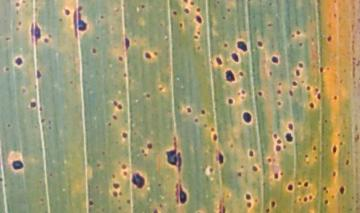tarspot: (167, 138, 182, 172), (74, 6, 86, 37), (174, 183, 187, 205), (131, 171, 146, 188), (31, 24, 41, 44), (224, 68, 236, 82), (215, 150, 224, 165), (242, 112, 252, 124), (237, 41, 248, 51), (218, 201, 227, 213), (12, 161, 23, 170), (284, 132, 293, 143), (231, 53, 239, 62), (15, 58, 23, 66), (271, 55, 279, 63), (196, 16, 203, 25), (124, 37, 129, 49), (339, 185, 345, 195), (29, 102, 37, 109), (287, 122, 294, 130), (244, 193, 252, 200), (87, 199, 95, 206), (252, 196, 260, 203), (35, 70, 41, 79), (354, 134, 360, 143), (354, 59, 360, 68), (332, 144, 337, 154), (146, 143, 153, 150), (248, 149, 255, 156), (329, 192, 336, 199), (145, 52, 151, 60), (216, 57, 222, 65), (309, 101, 315, 109), (287, 183, 293, 191), (270, 199, 275, 208), (257, 40, 263, 47), (275, 145, 282, 151), (297, 41, 304, 47), (332, 94, 338, 101), (273, 172, 279, 179), (112, 190, 118, 197), (289, 32, 296, 38), (295, 68, 300, 76), (113, 183, 121, 188), (184, 8, 190, 14), (172, 10, 178, 16), (213, 133, 217, 142), (257, 91, 263, 97), (272, 133, 278, 139), (291, 80, 297, 86), (298, 62, 304, 68), (65, 8, 70, 15), (117, 103, 122, 110), (221, 14, 226, 21), (288, 89, 293, 96), (327, 35, 332, 42), (252, 165, 257, 172), (312, 144, 317, 151), (304, 180, 309, 187), (317, 92, 321, 100), (5, 36, 11, 41), (122, 133, 128, 138), (187, 107, 192, 113), (146, 93, 151, 99), (122, 72, 128, 77), (140, 3, 145, 9), (158, 86, 164, 91), (6, 123, 12, 128), (21, 88, 27, 93), (121, 164, 127, 169), (276, 138, 282, 143), (241, 89, 246, 95), (277, 101, 283, 106), (319, 66, 324, 72), (297, 181, 303, 186), (303, 196, 308, 202), (332, 171, 337, 177), (123, 170, 128, 176), (38, 106, 43, 112), (96, 162, 101, 168), (111, 173, 116, 179), (268, 1, 273, 7), (34, 6, 39, 12), (332, 11, 337, 17), (113, 114, 117, 121), (345, 158, 349, 165), (15, 8, 19, 15), (15, 26, 20, 31), (15, 2, 20, 7), (44, 38, 49, 43), (196, 7, 201, 12), (194, 118, 199, 123), (100, 15, 105, 20), (153, 51, 158, 56), (224, 43, 229, 48), (229, 99, 234, 104), (239, 71, 244, 76), (277, 89, 282, 94), (306, 85, 311, 90), (304, 153, 309, 158), (267, 157, 272, 162), (246, 202, 251, 207), (209, 167, 214, 172), (118, 191, 123, 196), (126, 199, 131, 204), (95, 35, 100, 40), (336, 132, 341, 137), (92, 48, 96, 54), (40, 118, 46, 122), (267, 23, 273, 27), (315, 87, 319, 93), (230, 143, 234, 149), (153, 209, 159, 213), (314, 154, 318, 160), (325, 198, 328, 205), (5, 67, 10, 71), (18, 20, 22, 25), (114, 100, 118, 105), (58, 18, 63, 22), (118, 56, 123, 60), (193, 35, 198, 39), (201, 110, 206, 114), (108, 122, 112, 127), (211, 127, 215, 132), (197, 45, 201, 50), (296, 30, 300, 35), (269, 71, 273, 76), (266, 208, 270, 213), (238, 172, 243, 176), (323, 186, 327, 191), (159, 203, 163, 208), (283, 144, 287, 149), (339, 141, 343, 146), (298, 197, 302, 202), (216, 1, 221, 5), (1, 176, 4, 182), (21, 1, 27, 4), (190, 2, 194, 6), (141, 149, 145, 153), (197, 31, 201, 35), (278, 81, 282, 85), (324, 119, 328, 123), (158, 183, 162, 187), (118, 206, 122, 210), (183, 1, 188, 4), (204, 123, 207, 128), (227, 8, 230, 13), (309, 195, 312, 200), (241, 164, 244, 169), (70, 80, 73, 85), (144, 153, 148, 156), (280, 172, 284, 175), (102, 151, 105, 155), (48, 120, 51, 124), (180, 23, 182, 28)
